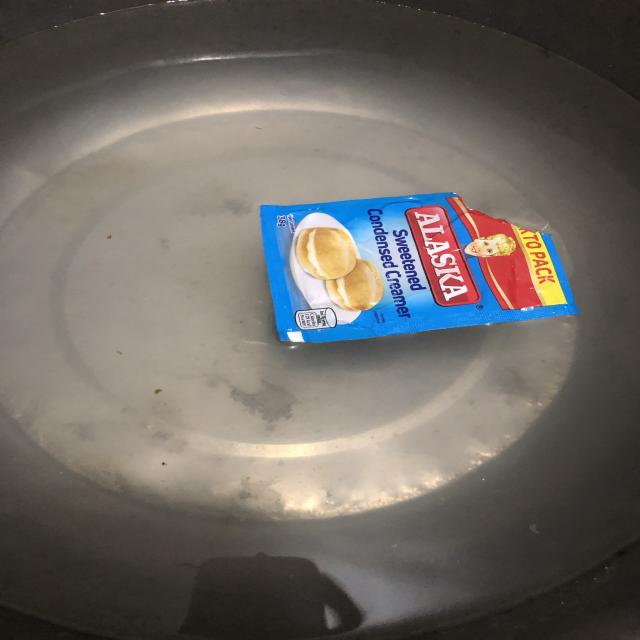Plastic Wrapper: (231, 205, 587, 342)
